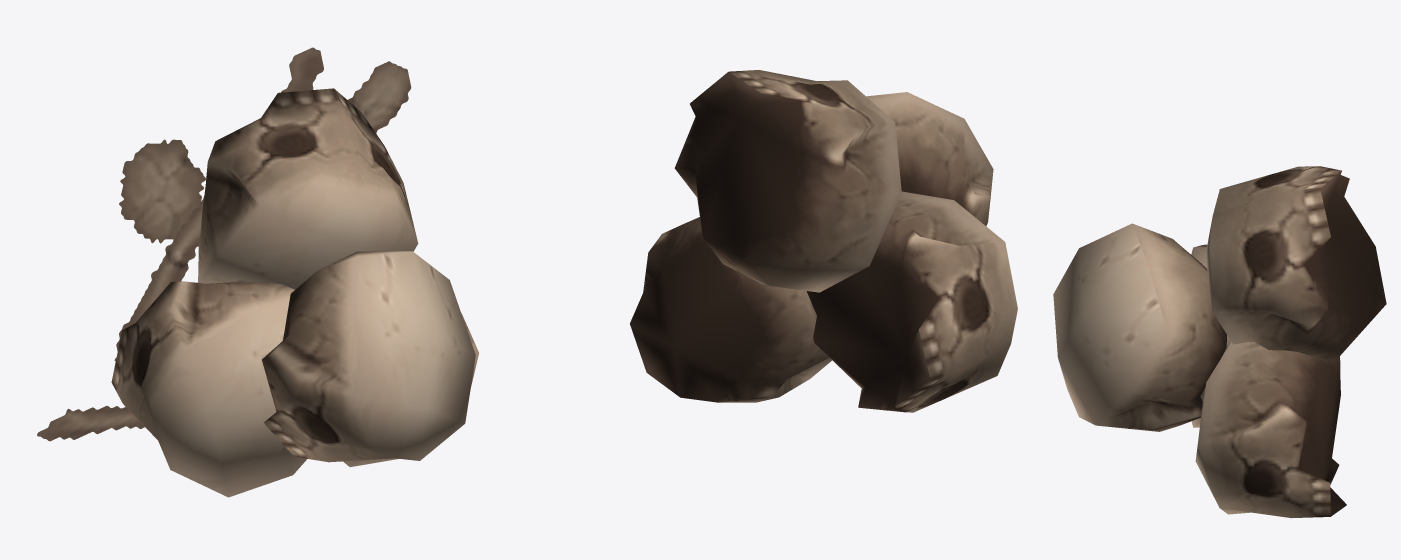
File: skullpile_01.glb
3 views of the same model, side by side, from view 1: azimuth 30°, elevation 25°; view 2: azimuth 150°, elevation 25°; view 3: azimuth 270°, elevation 25° (orthographic). The views are drawn at different scales.
Visible parts, largest first — view 1: undead.skullpile_01-Mesh[0], undead.skullpile_01-Mesh[1]; view 2: undead.skullpile_01-Mesh[0]; view 3: undead.skullpile_01-Mesh[0].
Part boxes in pixels (x1=…): undead.skullpile_01-Mesh[0]: x1=111, y1=88, x2=478, y2=497; undead.skullpile_01-Mesh[1]: x1=37, y1=47, x2=411, y2=441; undead.skullpile_01-Mesh[0]: x1=630, y1=70, x2=1017, y2=412; undead.skullpile_01-Mesh[0]: x1=1053, y1=166, x2=1386, y2=518.
Size of the model in its own units: 1.66 by 1.62 by 1.05.
2 materials, 2 textured.
